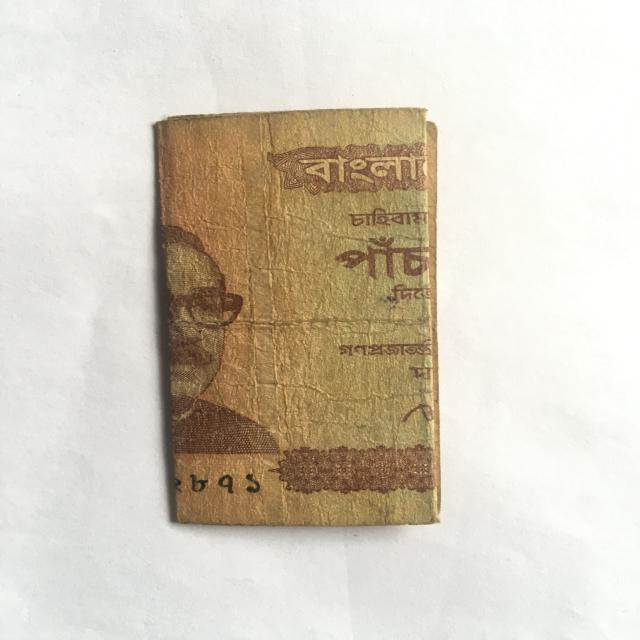Taka: (141, 106, 457, 534)
